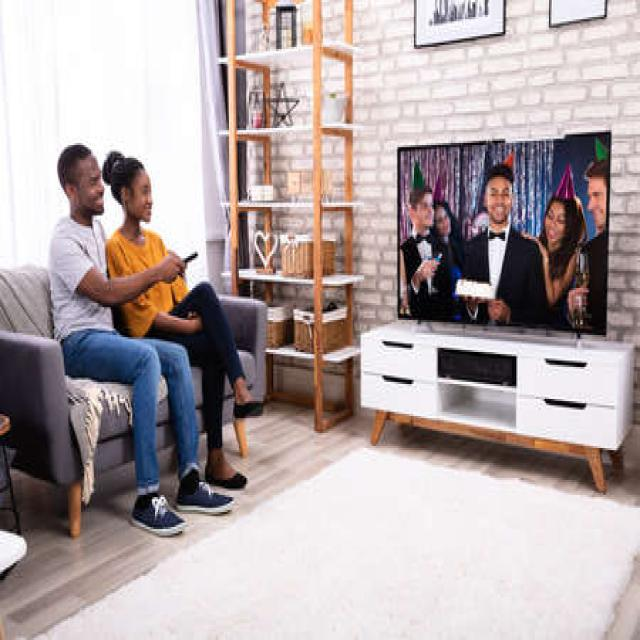tv-person: (34, 89, 626, 525), (105, 101, 617, 514)
